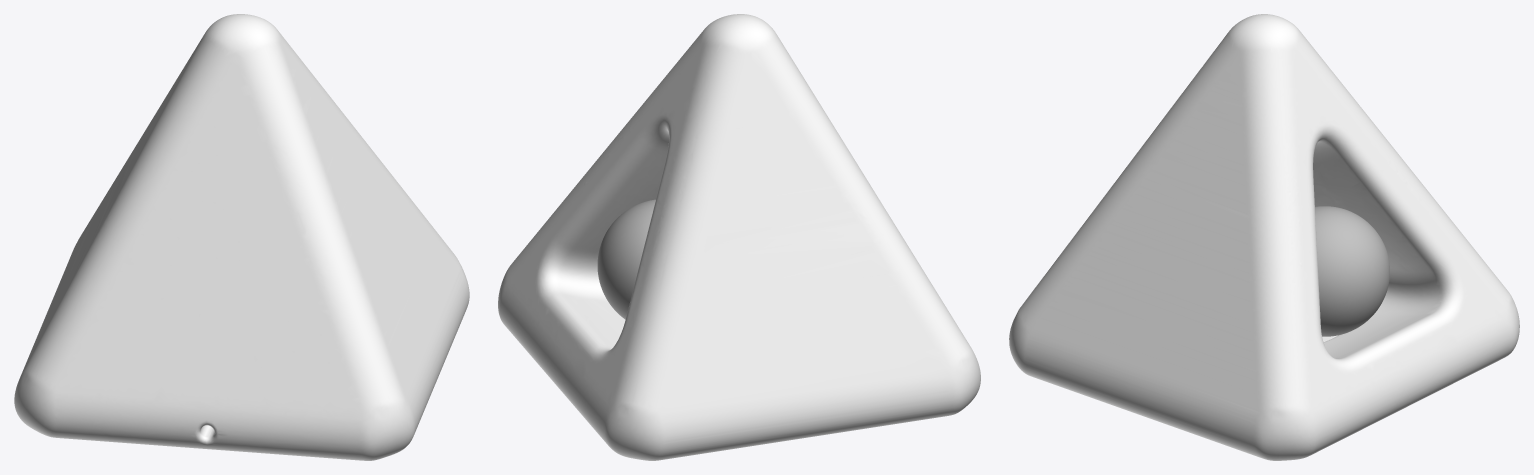
Rendered from lamp-simple.glb.
3 views of the same model, side by side, from view 1: azimuth 30°, elevation 25°; view 2: azimuth 150°, elevation 25°; view 3: azimuth 270°, elevation 25° (orthographic). The views are drawn at different scales.
Parts seen in each view (by area): view 1: Gravity; view 2: Gravity; view 3: Gravity.
Boxes of the visible parts, <box> form: Gravity: <box>14,14,469,460</box>; Gravity: <box>498,14,980,460</box>; Gravity: <box>1009,14,1519,460</box>.
Bounding box in the file's own units: 235 × 175 × 235.
1 material, 1 textured.
